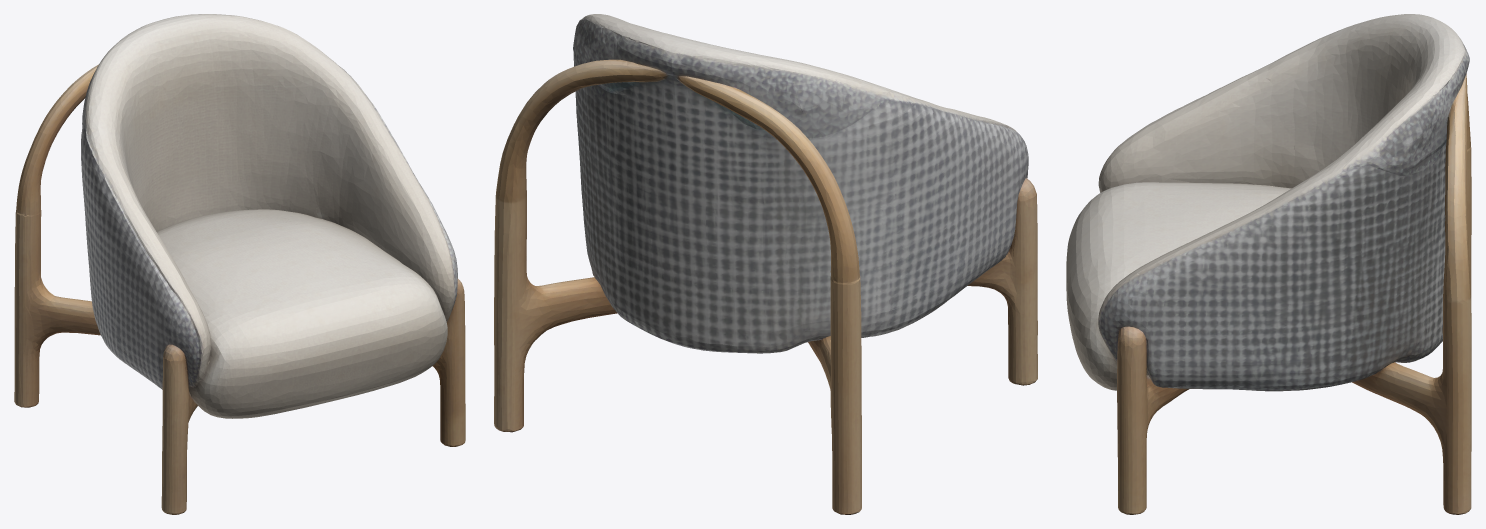
The model's file is SILLON AARMIN.glb.
The picture shows the model from 3 angles, left to right: view 1: azimuth 30°, elevation 25°; view 2: azimuth 150°, elevation 25°; view 3: azimuth 270°, elevation 25°; orthographic projection. The views are drawn at different scales.
Parts seen in each view (by area): view 1: world; view 2: world; view 3: world.
Boxes of the visible parts, box(x1,y1,x2,y2) form: world: box(14, 14, 465, 514); world: box(494, 14, 1037, 514); world: box(1066, 14, 1471, 514).
Bounding box in the file's own units: 0.8988 × 1 × 0.9448.
1 material, 1 textured.
